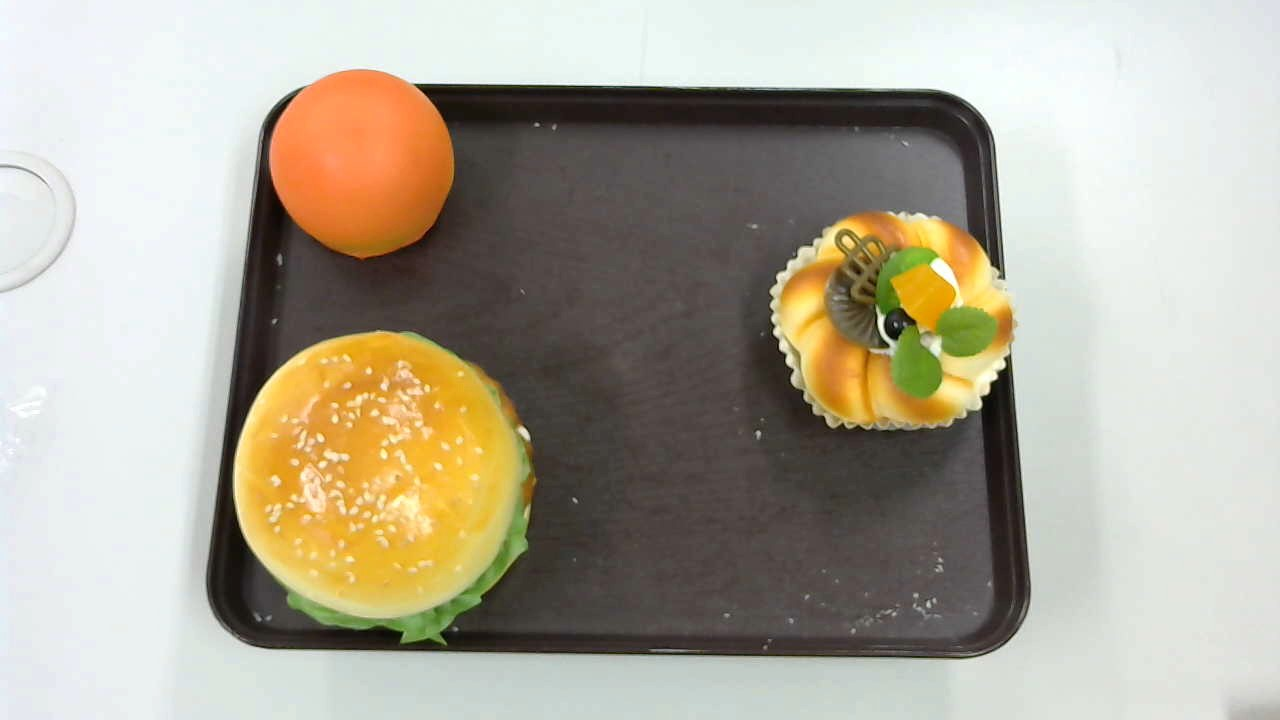bun: (270, 69, 455, 258)
fruit tart: (770, 210, 1019, 431)
hamburger: (229, 329, 537, 649)
